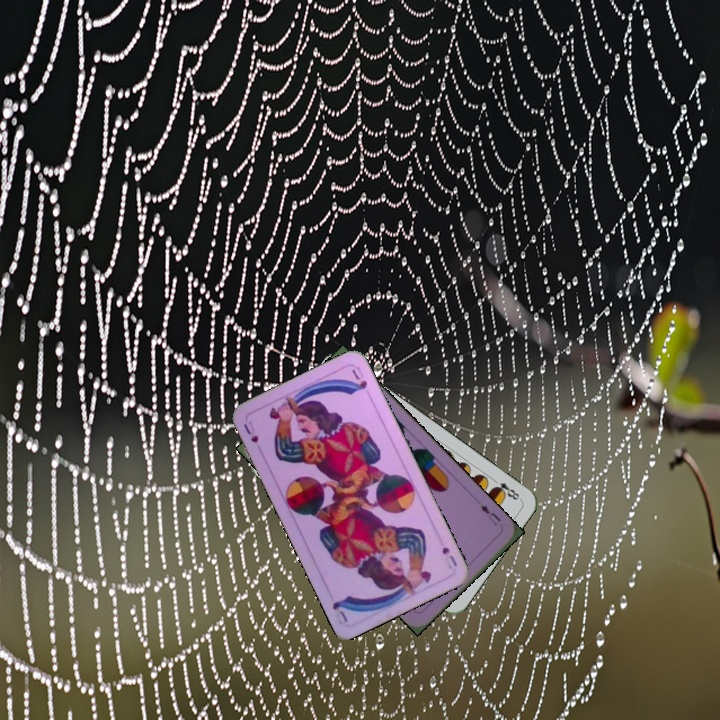E8: (488, 474, 523, 503)
EU: (476, 500, 504, 528)
SU: (239, 416, 261, 446), (438, 543, 459, 572)
